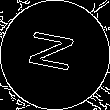N_E: (26, 30, 84, 80)
